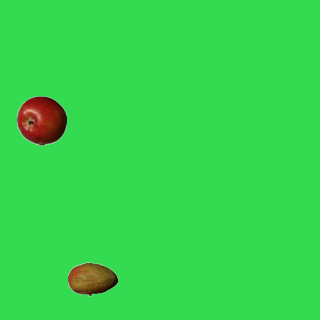Apple Braeburn: (16, 95, 66, 145)
Papaya: (67, 254, 117, 304)
